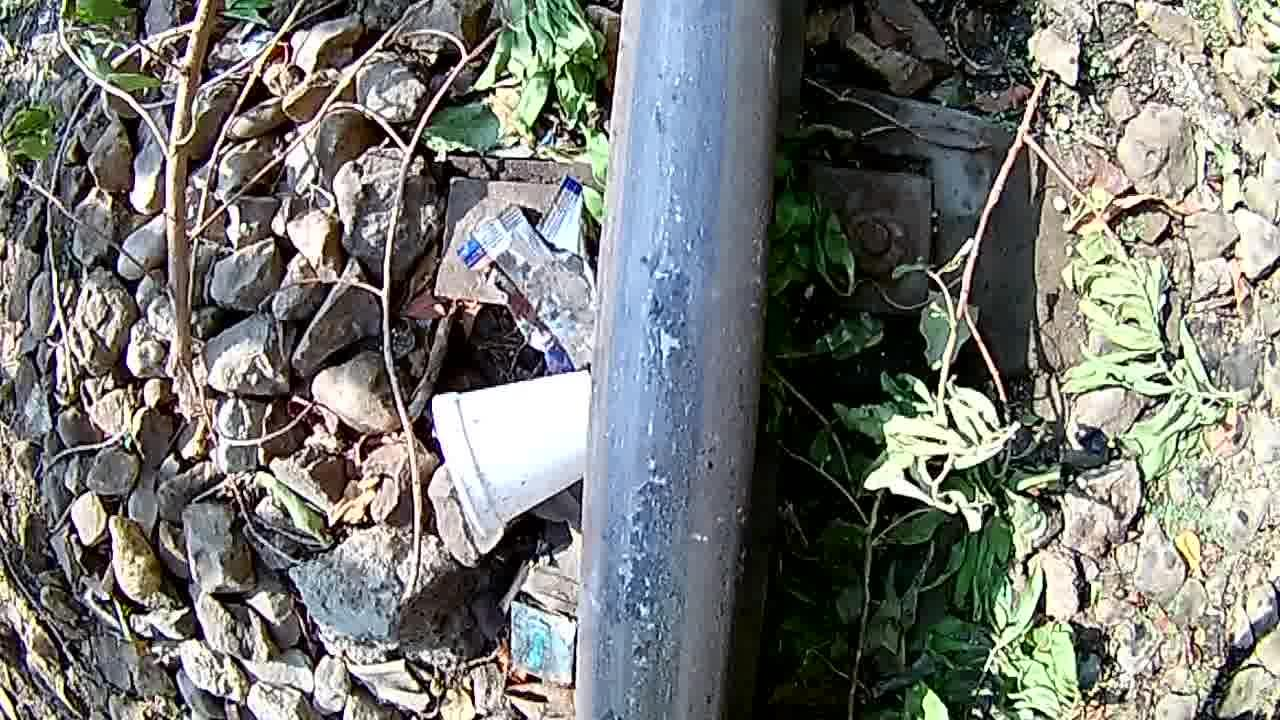crack: (594, 36, 768, 720)
